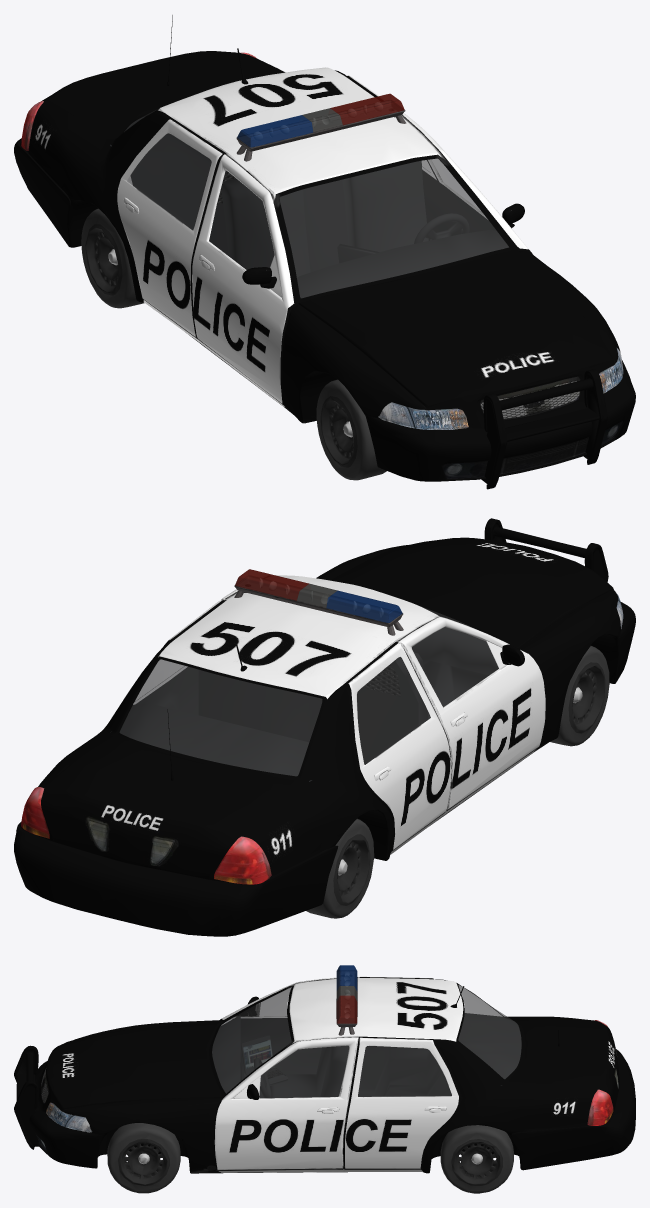
The model's file is police.glb.
The picture shows the model from 3 angles, top to bottom: view 1: azimuth 30°, elevation 25°; view 2: azimuth 150°, elevation 25°; view 3: azimuth 270°, elevation 25°; orthographic projection. The views are drawn at different scales.
Parts seen in each view (by area): view 1: body, wheel_fr, wheel_rr; view 2: body, wheel_rr, wheel_fr; view 3: body, wheel_fl, wheel_rl.
Boxes of the visible parts, left/top/right/bottom form: body: left=14, top=15, right=635, bottom=489; wheel_fr: left=316, top=379, right=386, bottom=480; wheel_rr: left=81, top=208, right=144, bottom=308; body: left=14, top=518, right=635, bottom=936; wheel_rr: left=306, top=818, right=374, bottom=918; wheel_fr: left=550, top=646, right=609, bottom=746; body: left=14, top=965, right=635, bottom=1173; wheel_fl: left=107, top=1123, right=180, bottom=1193; wheel_rl: left=440, top=1125, right=513, bottom=1193.
Bounding box in the file's own units: 2.48 × 1.98 × 6.7.
Materials: 6 (4 with a texture image).
